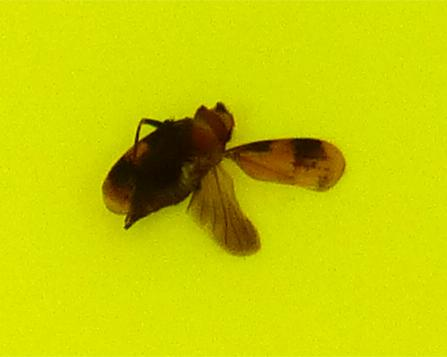Hemiptera: (100, 100, 347, 257)
